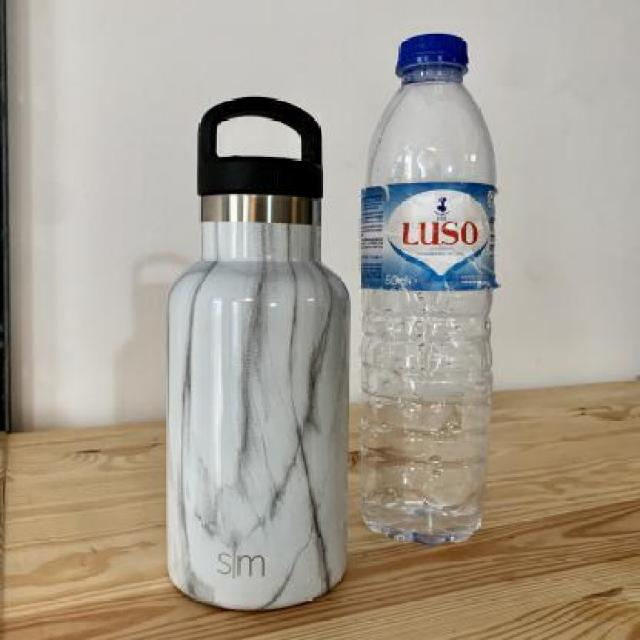bottle: (352, 30, 519, 565)
